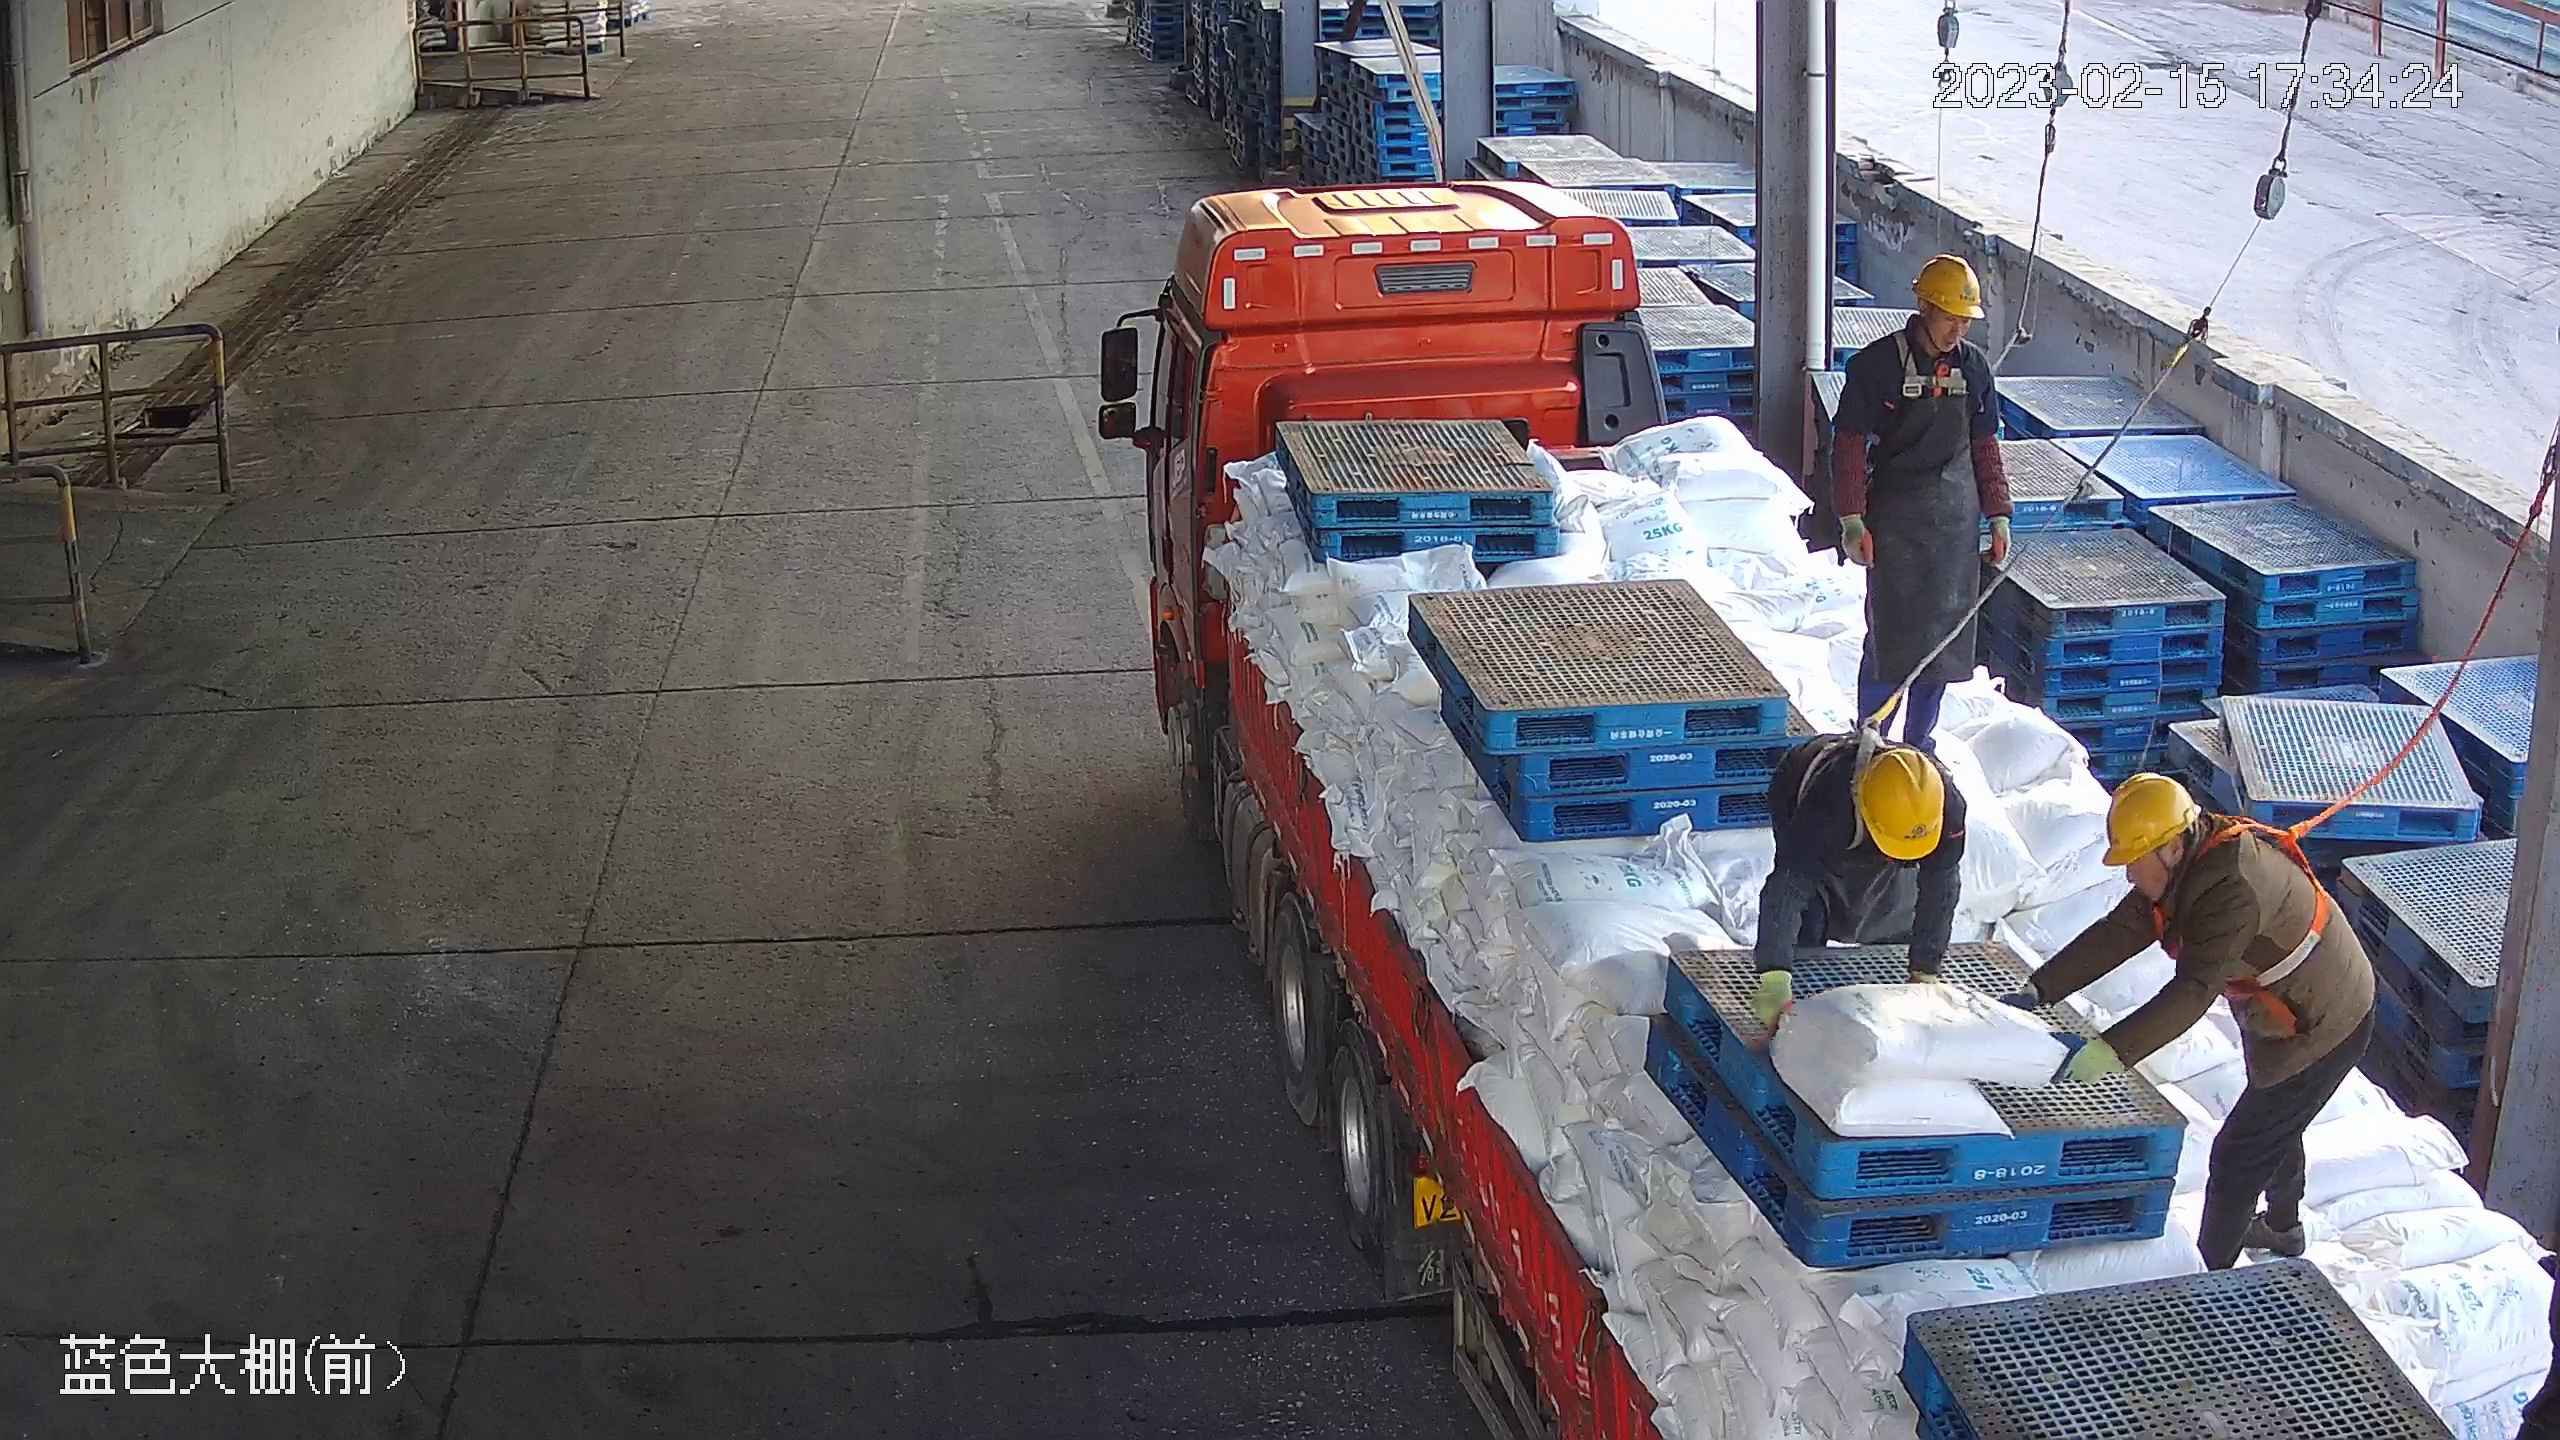belt: (2147, 810, 2347, 1001), (1794, 691, 1922, 849), (1888, 321, 2020, 407)
head: (2100, 770, 2300, 917), (1842, 252, 1995, 379), (1790, 745, 1968, 854)
helmet: (1854, 747, 1945, 860), (2101, 770, 2201, 864), (1911, 252, 1984, 320)
people: (1994, 770, 2379, 1272), (1830, 253, 2016, 760), (1754, 733, 1968, 1027)
truck: (1141, 178, 2560, 1440)
